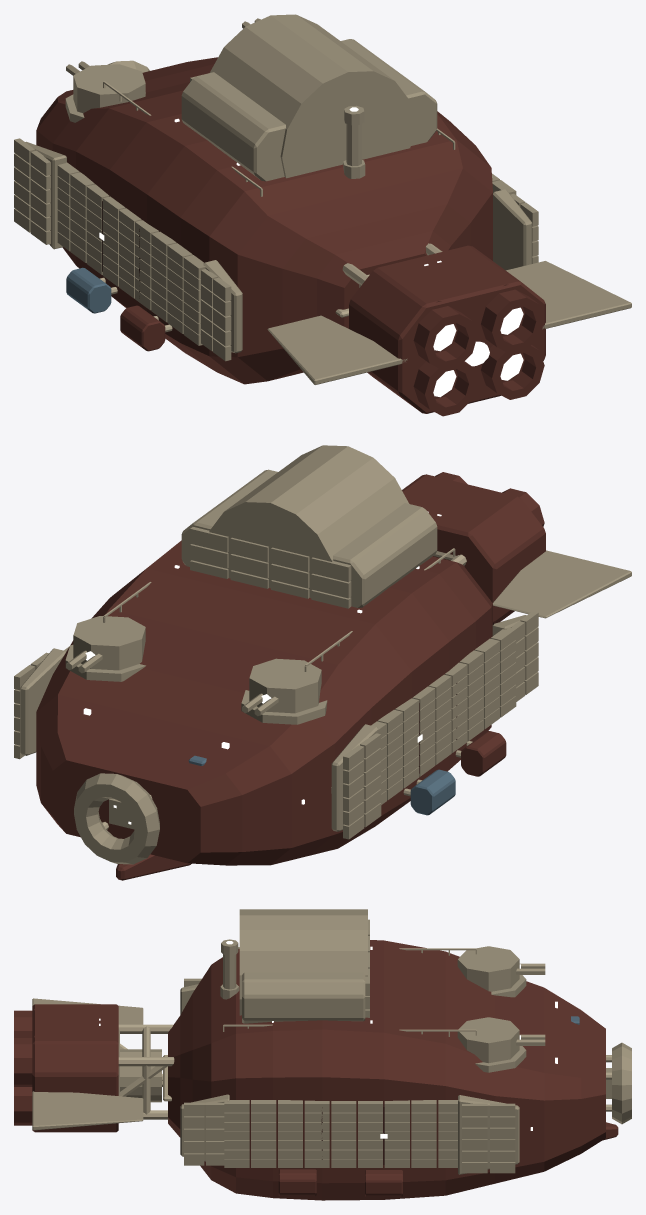
3 renders of one model, top to bottom at view 1: azimuth 30°, elevation 25°; view 2: azimuth 150°, elevation 25°; view 3: azimuth 270°, elevation 25°, orthographic. The views are drawn at different scales.
Parts seen in each view (by area): view 1: RIMWARD_HULL, RIMWARD_EMISSIVE; view 2: RIMWARD_HULL; view 3: RIMWARD_HULL.
Boxes of the visible parts, x1,y1,x2,y2 form: RIMWARD_HULL: (14,14,631,416); RIMWARD_EMISSIVE: (99,107,523,397); RIMWARD_HULL: (14,445,631,880); RIMWARD_HULL: (14,909,631,1200).
Size of the model in its own units: 9.68 by 7.41 by 17.04.
